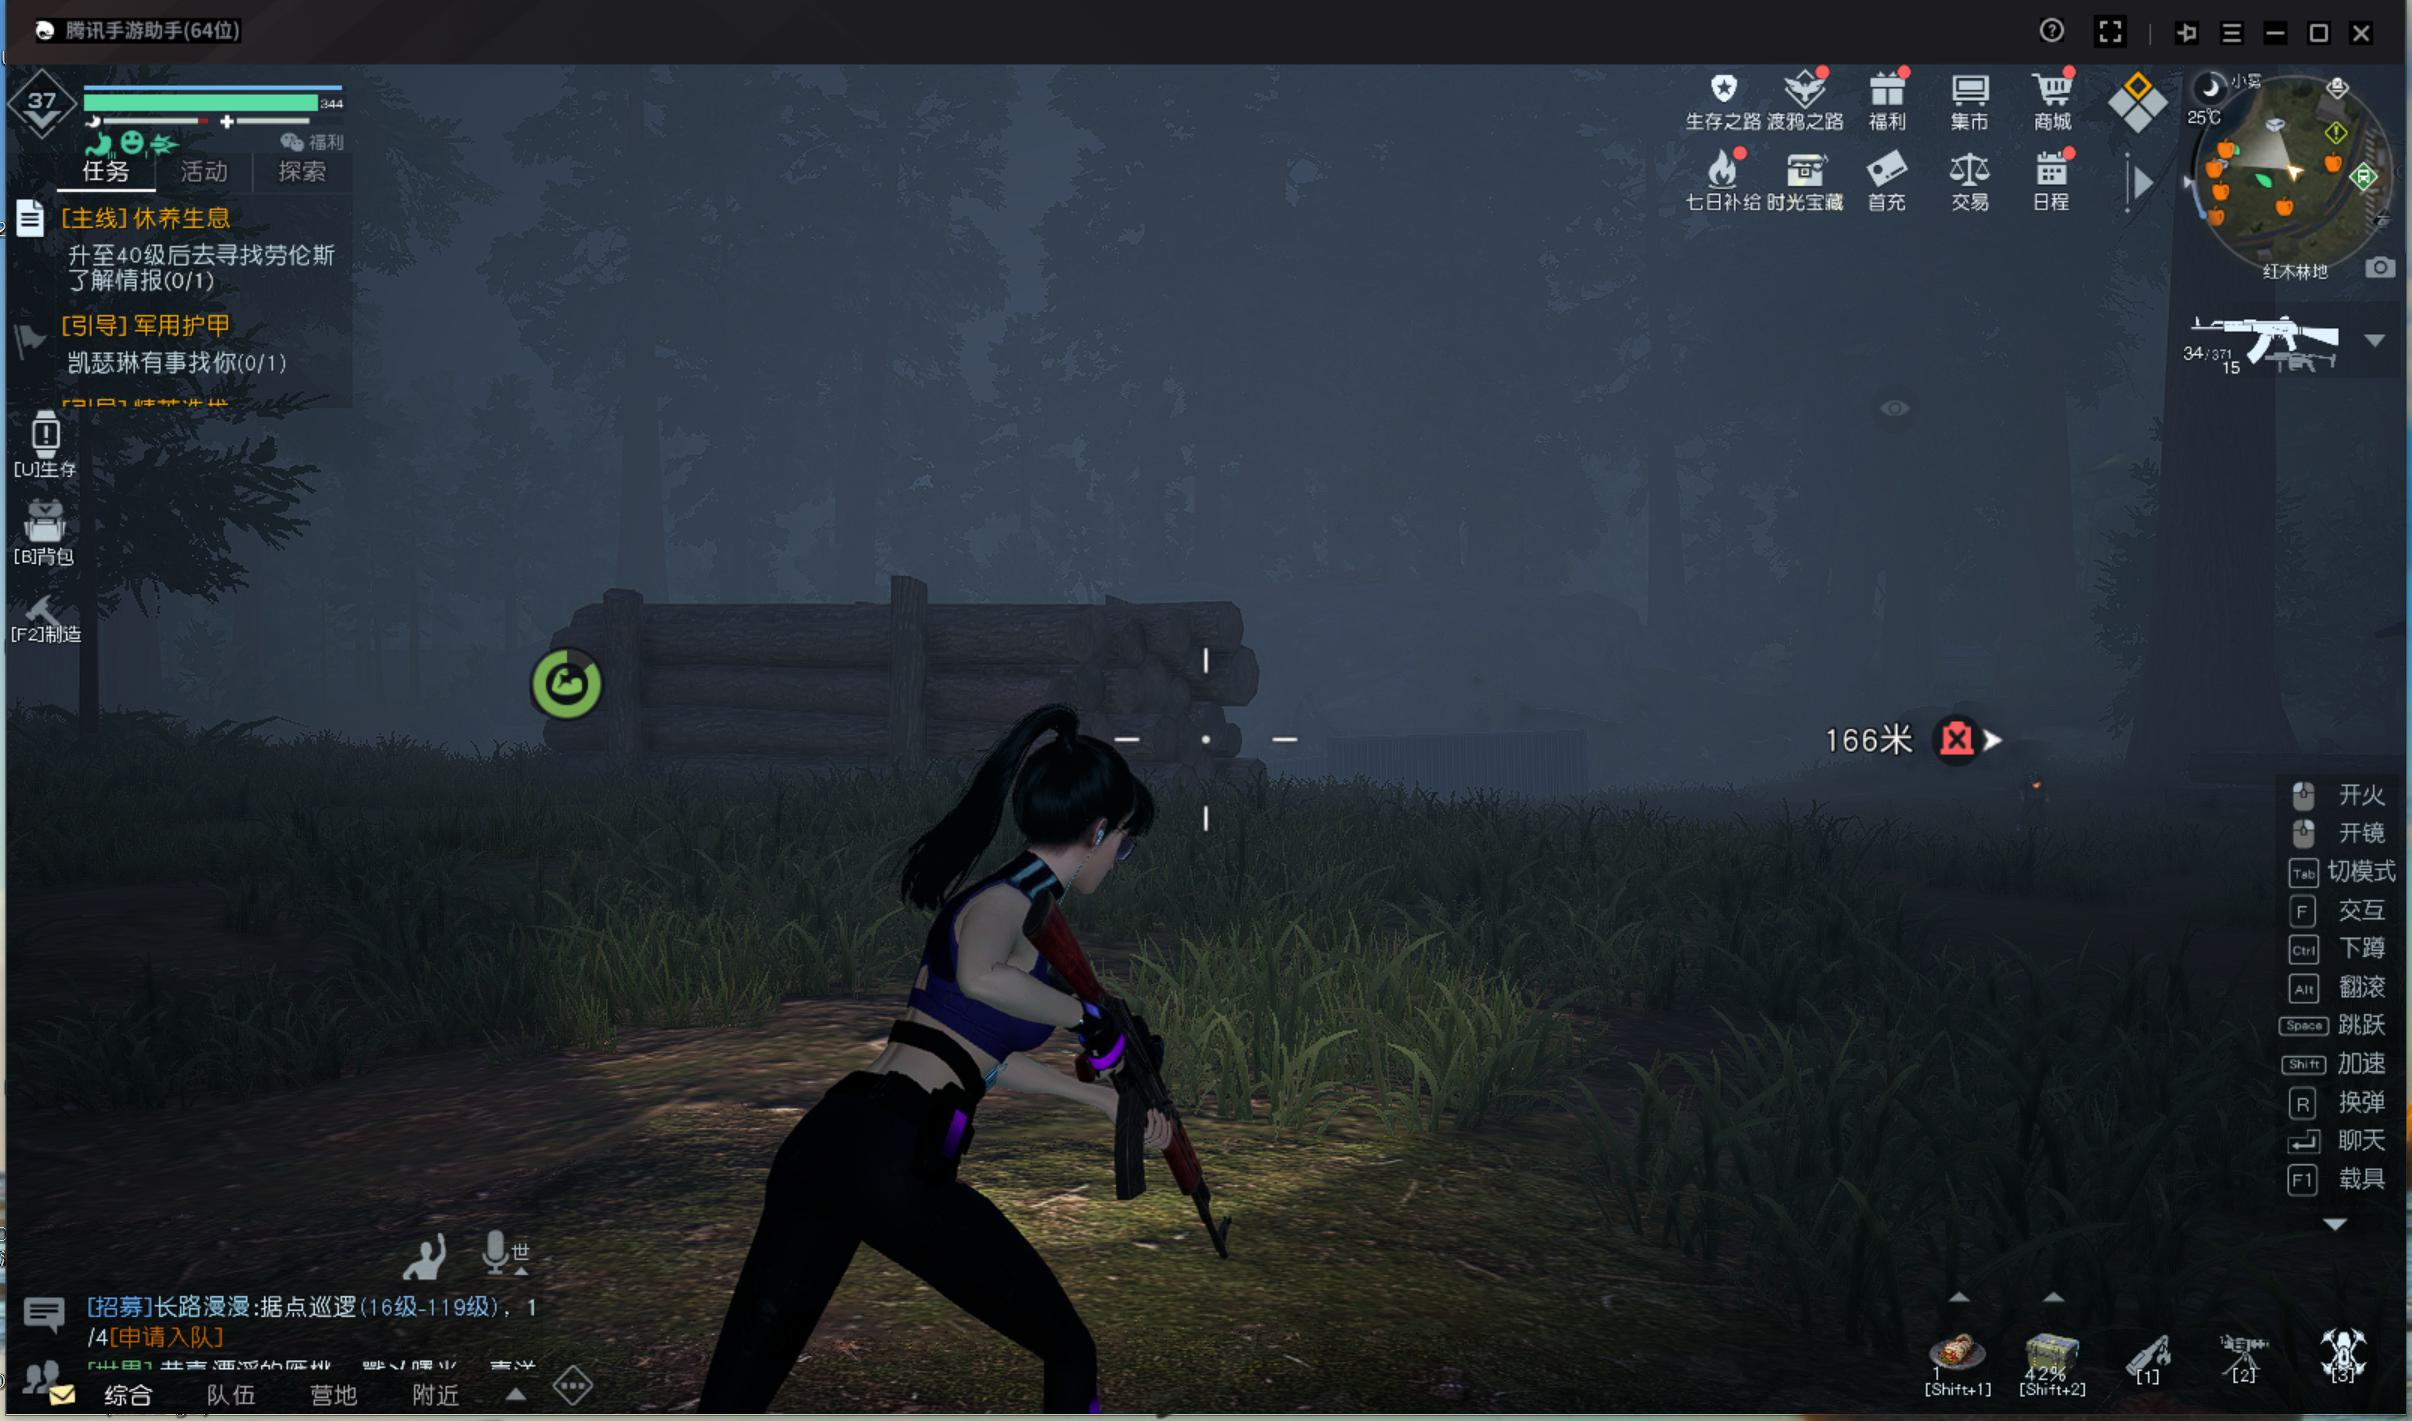tree: (2128, 245, 2305, 763), (1624, 408, 1698, 689)
